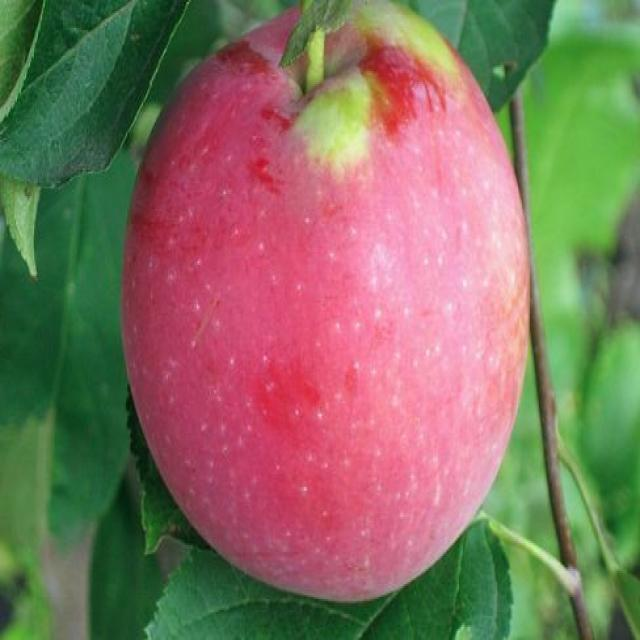Fresh Apple: (114, 22, 554, 603)
